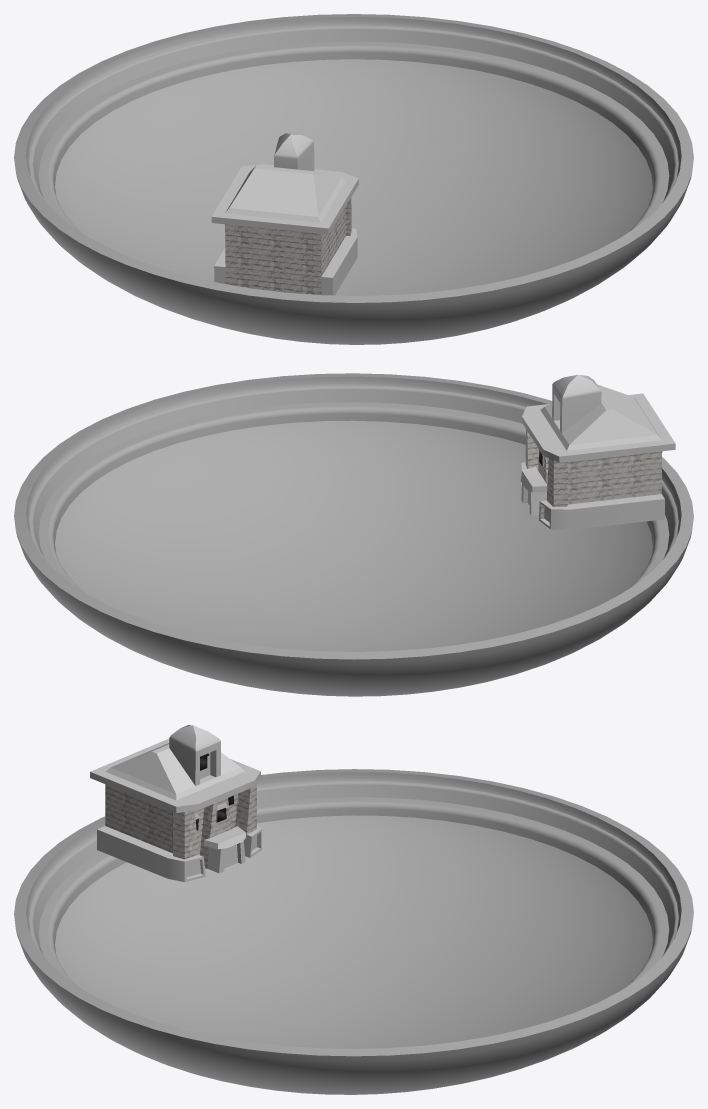
The model's file is big_home.fbx.
3 renders of one model, top to bottom at view 1: azimuth 30°, elevation 25°; view 2: azimuth 150°, elevation 25°; view 3: azimuth 270°, elevation 25°, orthographic.
Visible parts, largest first — view 1: pasted__polySurface251, polySurface225, polySurface236, polySurface227, polySurface235; view 2: pasted__polySurface251, polySurface225, polySurface236, polySurface234, polySurface227, polySurface230; view 3: pasted__polySurface251, polySurface225, polySurface236, polySurface235, polySurface227, polySurface230.
Boxes of the visible parts, box(x1,y1,x2,y2) form: pasted__polySurface251: box(14, 14, 693, 344); polySurface225: box(211, 164, 358, 234); polySurface236: box(225, 197, 351, 294); polySurface227: box(274, 133, 314, 170); polySurface235: box(321, 228, 357, 295); pasted__polySurface251: box(14, 373, 693, 696); polySurface225: box(522, 384, 675, 462); polySurface236: box(525, 429, 662, 519); polySurface234: box(539, 494, 664, 529); polySurface227: box(552, 374, 601, 432); polySurface230: box(520, 466, 547, 515); pasted__polySurface251: box(14, 769, 693, 1094); polySurface225: box(90, 738, 260, 812); polySurface236: box(105, 784, 256, 868); polySurface235: box(97, 826, 205, 881); polySurface227: box(169, 725, 220, 785); polySurface230: box(203, 826, 245, 873).
Bounding box in the file's own units: 32.36 × 12.82 × 32.36.
